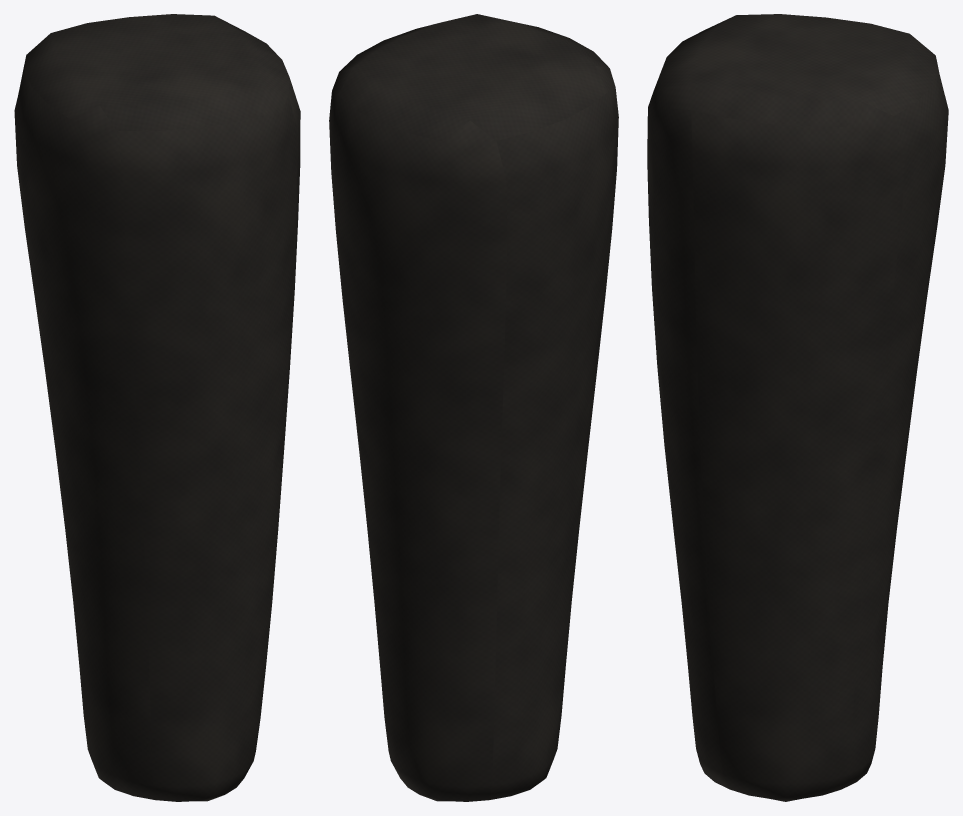
The model's file is musloder.obj.
3 views of the same model, side by side, from view 1: azimuth 30°, elevation 25°; view 2: azimuth 150°, elevation 25°; view 3: azimuth 270°, elevation 25° (orthographic).
Visible parts, largest first — view 1: MusloDer; view 2: MusloDer; view 3: MusloDer.
Boxes of the visible parts, <box> form: MusloDer: <box>14,14,300,801</box>; MusloDer: <box>329,14,618,801</box>; MusloDer: <box>647,14,948,801</box>.
Bounding box in the file's own units: 0.1603 × 0.45 × 0.1714.
1 material, 1 textured.
